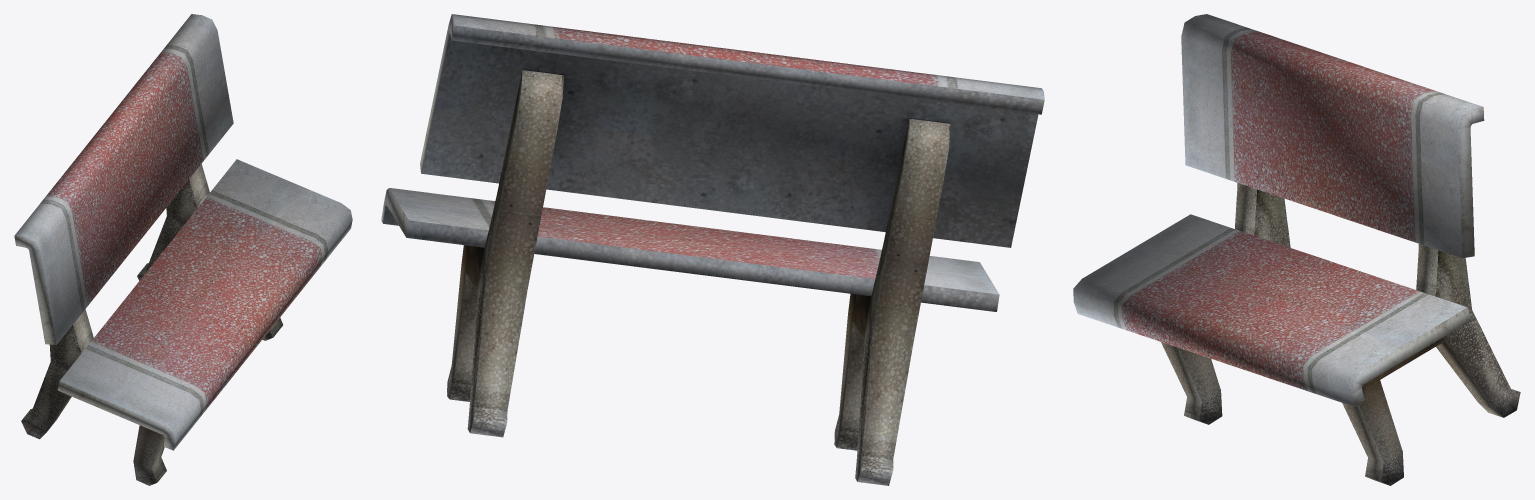
The model's file is Ghế_đá_công_viên.gltf.
3 views of the same model, side by side, from view 1: azimuth 30°, elevation 25°; view 2: azimuth 150°, elevation 25°; view 3: azimuth 270°, elevation 25° (orthographic). The views are drawn at different scales.
Visible parts, largest first — view 1: GeometryNode_5_0, GeometryNode_5_1; view 2: GeometryNode_5_0, GeometryNode_5_1; view 3: GeometryNode_5_0, GeometryNode_5_1.
Boxes of the visible parts, bbox=[...] form: GeometryNode_5_0: bbox=[15, 14, 352, 485]; GeometryNode_5_1: bbox=[14, 17, 188, 433]; GeometryNode_5_0: bbox=[381, 14, 1044, 485]; GeometryNode_5_1: bbox=[464, 26, 1044, 443]; GeometryNode_5_0: bbox=[1073, 16, 1518, 485]; GeometryNode_5_1: bbox=[1196, 14, 1520, 424].
Size of the model in its own units: 1.3 by 1.07 by 1.06.
Materials: 1 (1 with a texture image).
